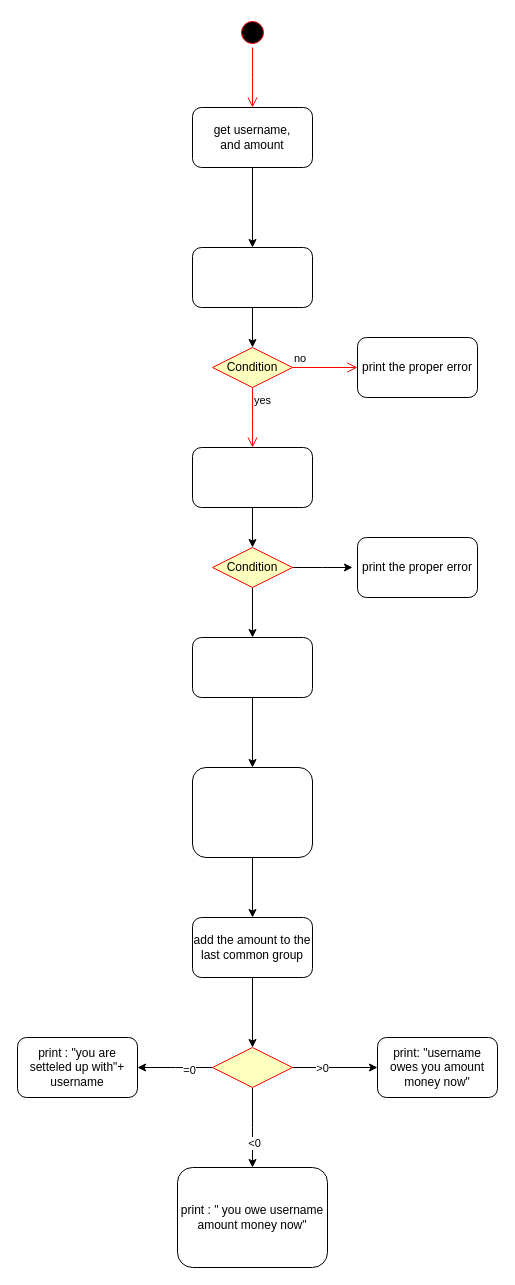
Image size: 515x1285. Some labels were removed from this diagram. The shapes that lost their labels are listed below. From the top down, each one's centre as x and y in pixels, then its label:
pixel 252 277: find user by username
pixel 252 477: validate the amount
pixel 252 667: change the amount to QTR
pixel 252 812: iterate through groups ,add the debt amount to amount and set the debt to zero.
pixel 252 1067: amount
